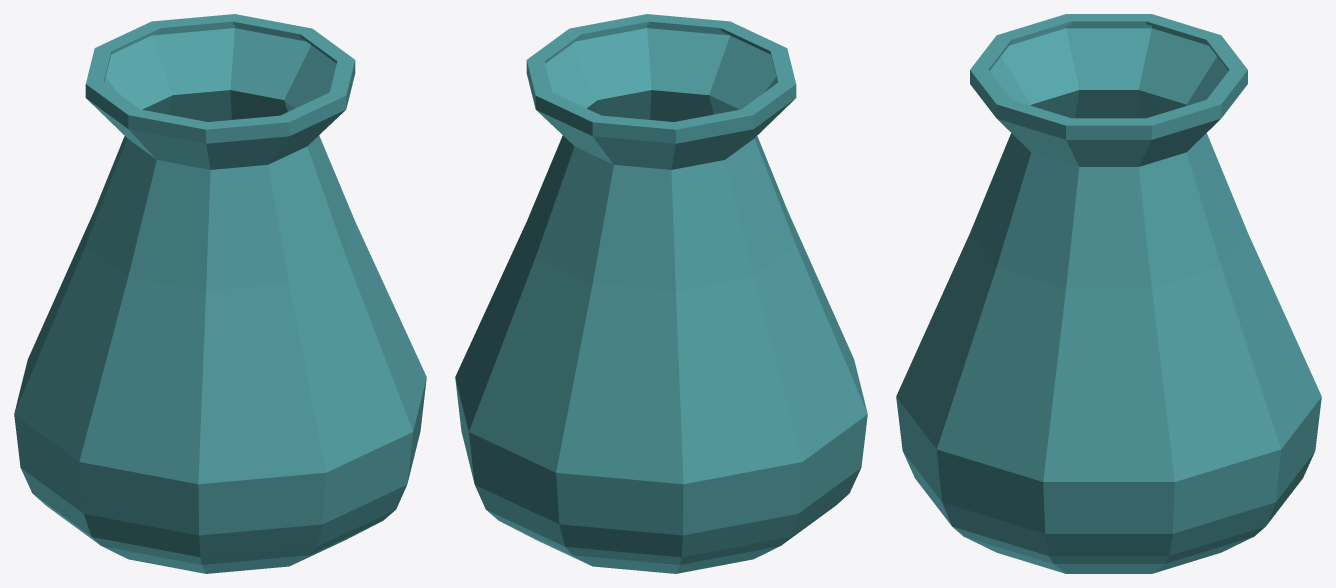
File: Vas.fbx
3 views of the same model, side by side, from view 1: azimuth 30°, elevation 25°; view 2: azimuth 150°, elevation 25°; view 3: azimuth 270°, elevation 25° (orthographic).
Parts seen in each view (by area): view 1: Vas; view 2: Vas; view 3: Vas.
Part boxes in pixels (x1=…): Vas: x1=14, y1=14, x2=426, y2=573; Vas: x1=455, y1=14, x2=867, y2=573; Vas: x1=896, y1=14, x2=1321, y2=573.
Bounding box in the file's own units: 35.6 × 43.49 × 37.43.
